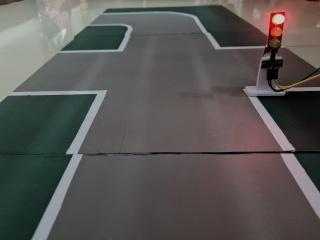red: (261, 3, 289, 64)
